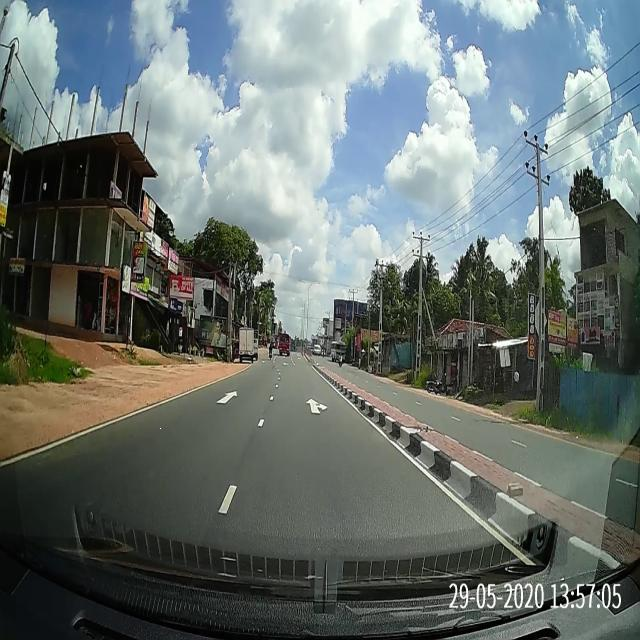forward: (155, 381, 277, 432)
